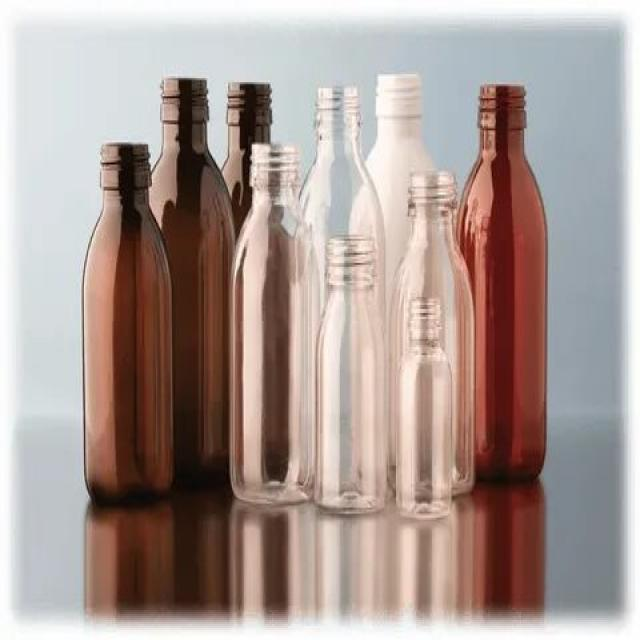brown: (148, 77, 229, 486), (80, 142, 174, 493)
